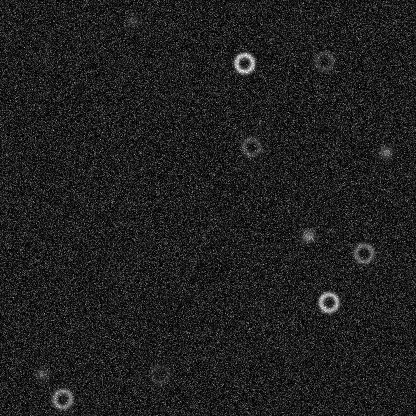Ring: (316, 290, 340, 314), (239, 134, 263, 158), (232, 50, 256, 74), (50, 386, 74, 410), (312, 49, 336, 73), (147, 362, 171, 386), (351, 241, 375, 265)
Spot: (300, 228, 316, 244), (33, 366, 49, 382), (377, 144, 393, 160), (125, 12, 141, 28)
